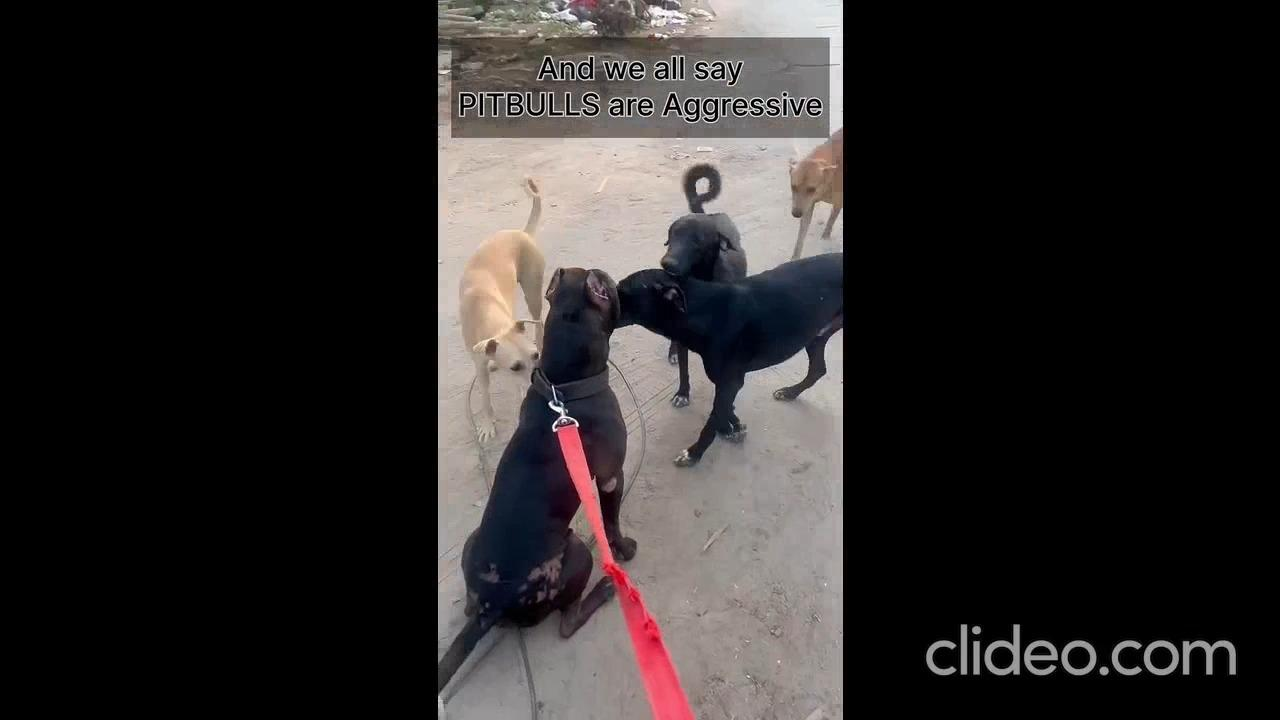dog: (603, 251, 845, 457), (653, 142, 748, 408), (459, 167, 550, 435), (781, 117, 842, 240)
